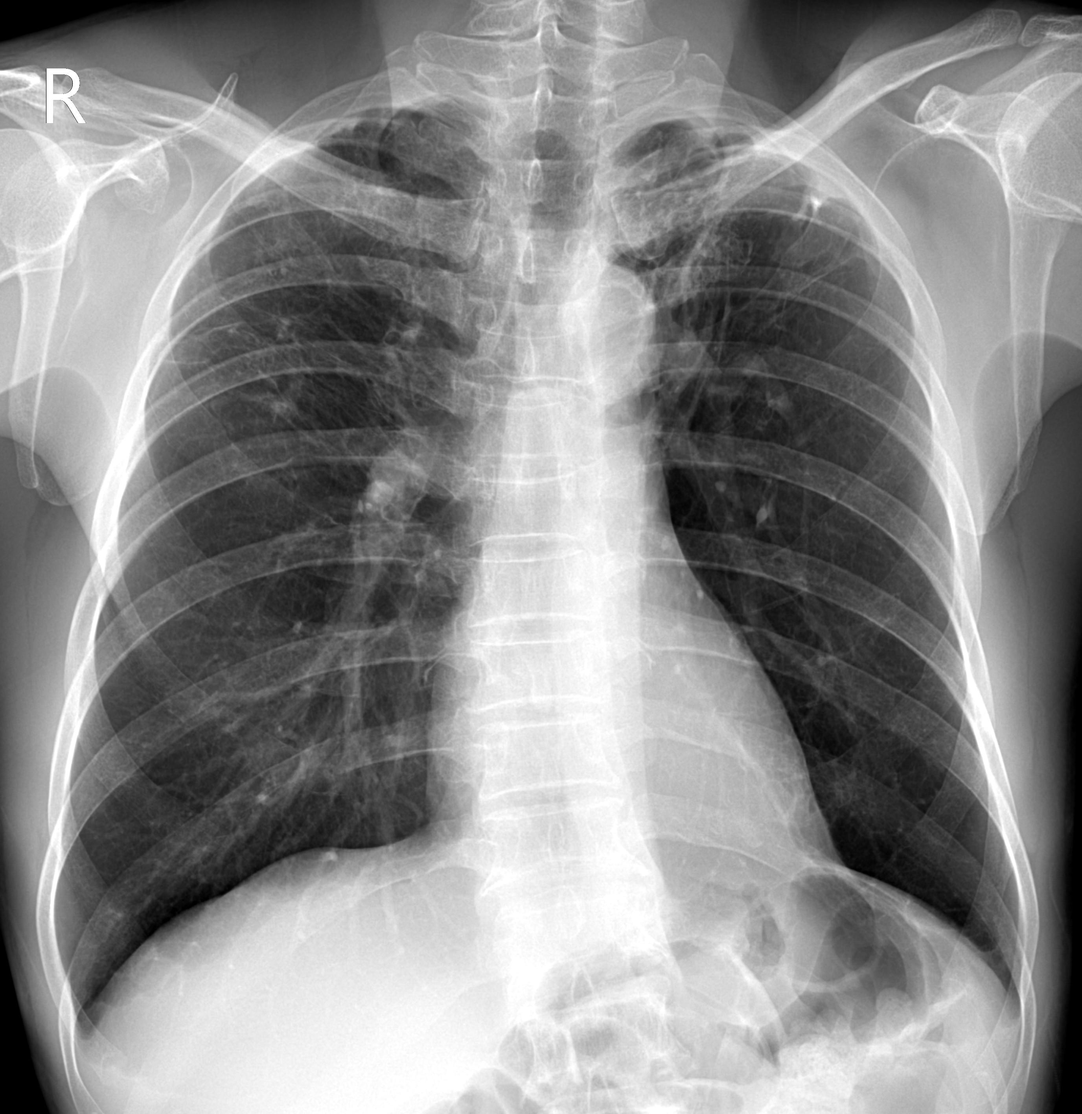Pleural thickening: (637, 112, 794, 165), (314, 106, 415, 135)
Pulmonary fibrosis: (150, 301, 469, 473)
